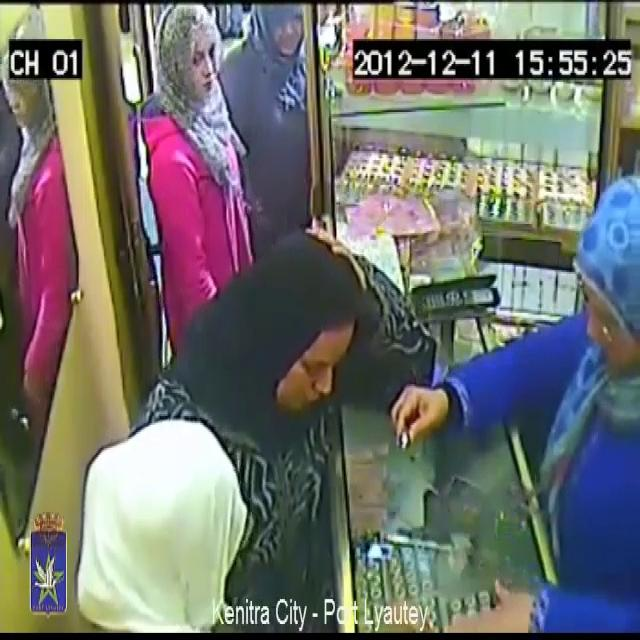Product: (392, 407, 420, 453)
normal: (76, 404, 344, 640), (133, 2, 246, 317), (211, 214, 342, 432), (228, 0, 314, 192)
shoplifting: (384, 218, 640, 640)
